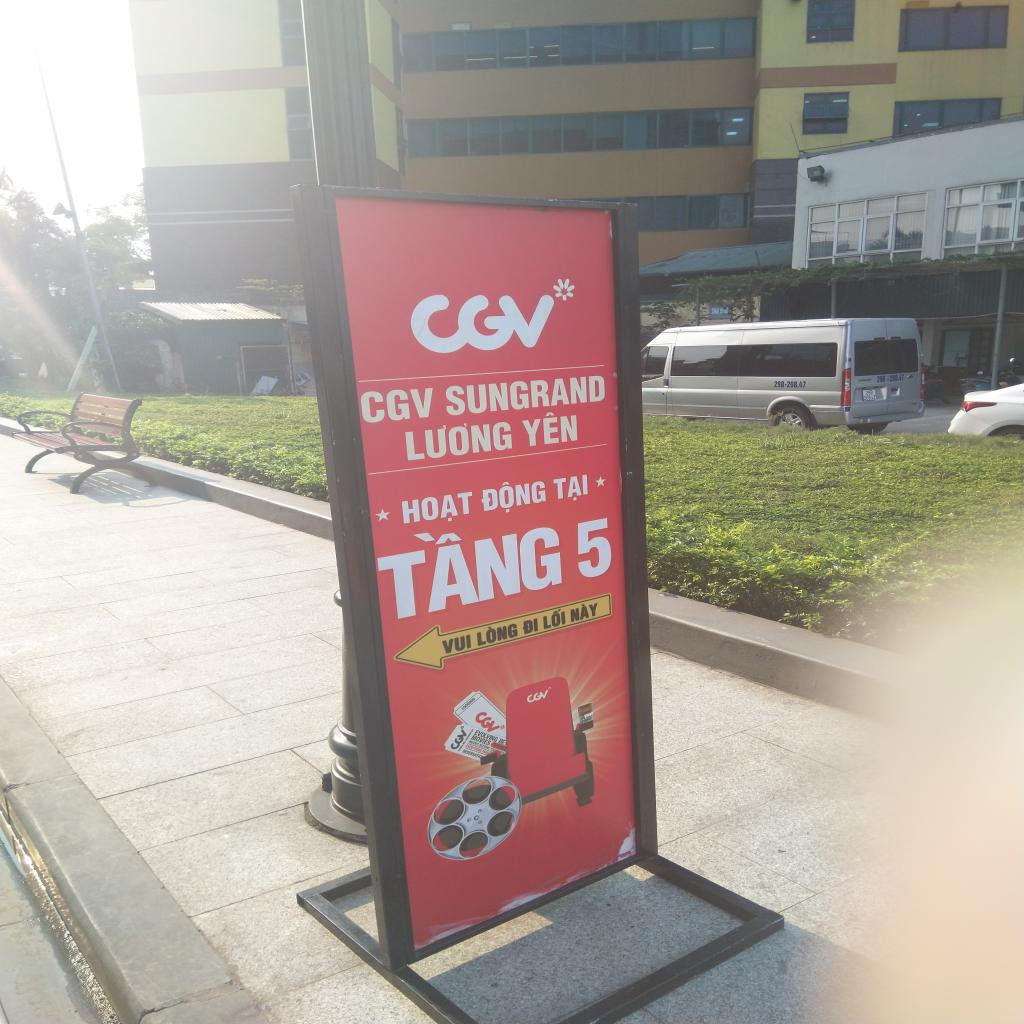text: (688, 345, 832, 489), (389, 351, 473, 462), (498, 313, 558, 435), (560, 383, 616, 466), (515, 441, 568, 500), (634, 357, 690, 411), (653, 412, 705, 469), (688, 308, 774, 337), (545, 333, 598, 379), (827, 379, 863, 412), (631, 326, 673, 354), (800, 318, 831, 342), (945, 392, 977, 414), (845, 414, 873, 438), (809, 343, 841, 363), (972, 416, 1001, 432), (919, 356, 940, 374), (973, 394, 991, 414), (823, 364, 848, 377), (929, 410, 948, 424), (980, 399, 995, 416), (508, 163, 518, 188), (999, 406, 1012, 422), (992, 406, 1004, 420), (498, 89, 510, 101), (940, 324, 952, 334), (500, 103, 511, 111), (987, 408, 995, 418), (992, 400, 1000, 410), (984, 388, 994, 395), (520, 113, 528, 120), (1000, 400, 1007, 407), (996, 396, 1003, 402), (1002, 389, 1007, 393)
